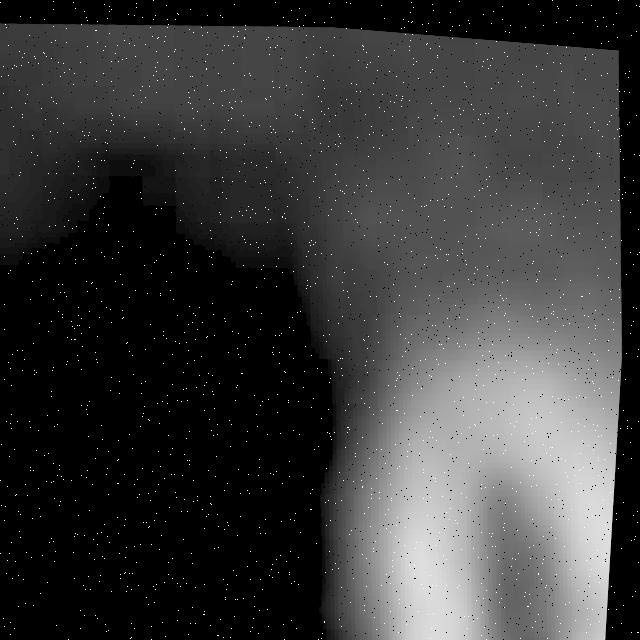person: (331, 182, 634, 640)
